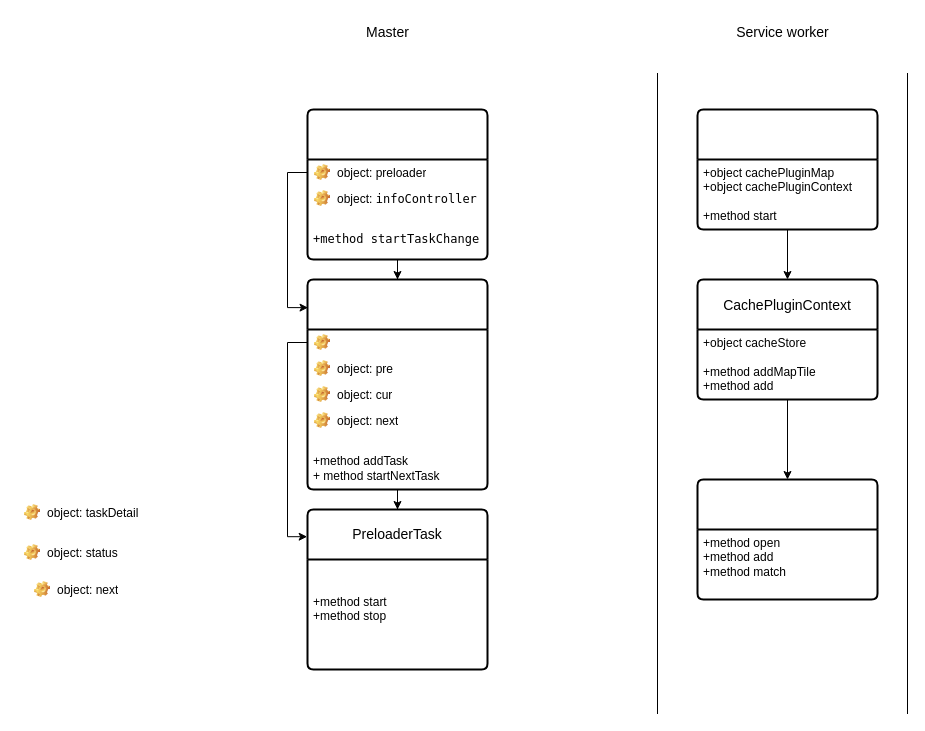
Image size: 925x731. Some labels were removed from this diagram. The shapes that lost their labels are listed below. From the top down, each one's box as (x1, y1, x2, y2) in pixels, then its label:
(306, 108, 488, 260): stateController
(696, 108, 878, 230): CachePluginHost
(307, 329, 487, 355): array: preloadTasks
(306, 278, 488, 490): Preloader
(696, 478, 878, 600): Cache(CacheStorage)
